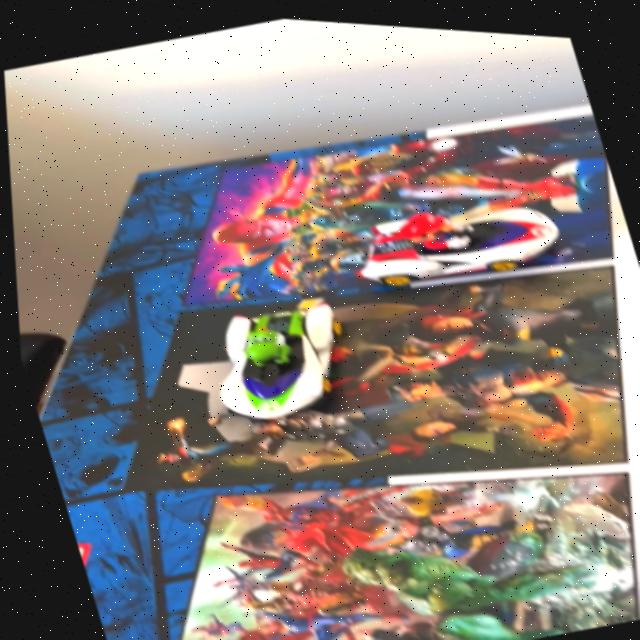mario: (337, 162, 593, 311)
yoshi: (164, 275, 374, 453)
